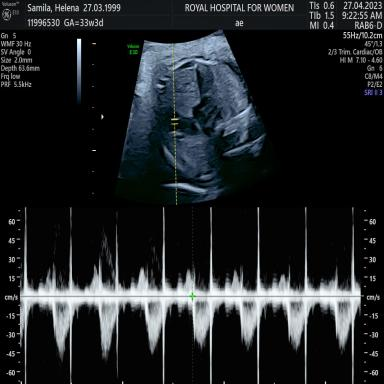Ultrasound-Waves: (27, 206, 358, 384)
